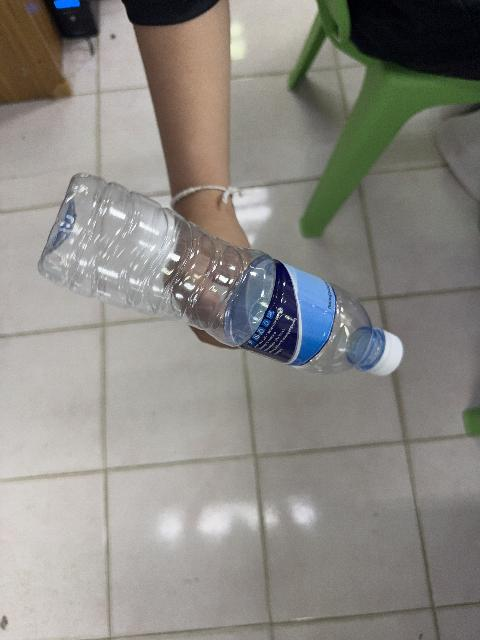bottle: (39, 174, 403, 375)
